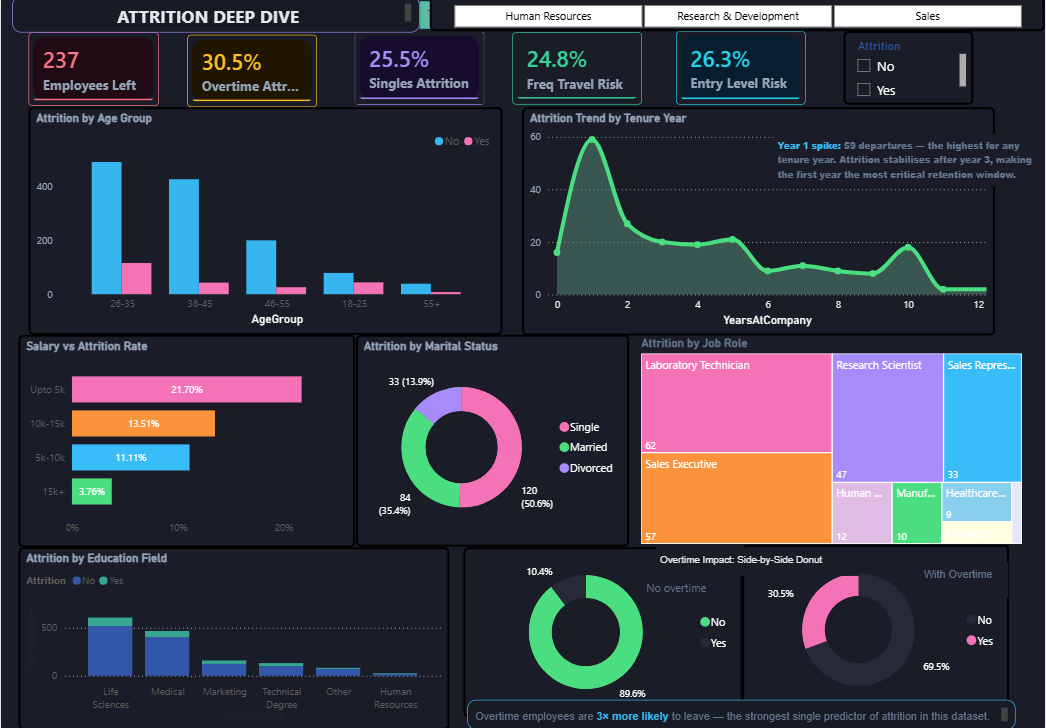

What the dashboard file says about the page in this screenshot:
{"tool":"powerbi","page":{"name":"Attrition Deep Dive","canvas":[1280,900],"ordinal":1},"visuals":[{"type":"cardVisual","fields":{"Data":["HR_Analytics.Attrition Count"]},"box":[33.4,44.5,160,90.5],"z":0},{"type":"cardVisual","fields":{"Data":["HR_Analytics.overtime attrition"]},"box":[228.5,47.5,159.5,89],"z":1000},{"type":"cardVisual","fields":{"Data":["HR_Analytics.Freq Travel Risk"]},"box":[627.3,44.5,159.5,89],"z":2000},{"type":"cardVisual","fields":{"Data":["HR_Analytics.Singles Attrition"]},"box":[434.1,42.9,159.5,90.5],"z":3000},{"type":"cardVisual","fields":{"Data":["HR_Analytics.Entry Level Risk"]},"box":[828.2,42.9,159.5,90.5],"z":4000},{"type":"textbox","box":[13.8,0,500,44.5],"z":5000},{"type":"clusteredColumnChart","title":"Attrition by Age Group","fields":{"Series":["HR_Analytics.Attrition"],"Category":["HR_Analytics.AgeGroup"],"Y":["HR_Analytics.Total Employees"]},"box":[33.7,136.5,581.3,279.1],"z":6000},{"type":"areaChart","title":"Attrition Trend by Tenure Year","fields":{"Category":["HR_Analytics.YearsAtCompany"],"Y":["HR_Analytics.Attrition Count"]},"box":[640,137,580,280],"z":7000},{"type":"donutChart","title":"Attrition by Marital Status","fields":{"Y":["HR_Analytics.Attrition Count"],"Category":["HR_Analytics.MaritalStatus"]},"box":[435,416,335,260],"z":8000},{"type":"treemap","title":"Attrition by Job Role","fields":{"Group":["HR_Analytics.JobRole"],"Values":["HR_Analytics.Attrition Count"]},"box":[780,417,477,260],"z":9000},{"type":"columnChart","title":"Attrition by Education Field","fields":{"Category":["HR_Analytics.EducationField"],"Series":["HR_Analytics.Attrition"],"Y":["HR_Analytics.Total Employees"]},"box":[21.5,676.4,529.1,223.9],"z":10000},{"type":"donutChart","title":"No Overtime","fields":{"Category":["HR_Analytics.Attrition"],"Y":["HR_Analytics.Total Employees"]},"box":[567,677,342,209],"z":11000},{"type":"donutChart","title":"With Overtime","fields":{"Category":["HR_Analytics.Attrition"],"Y":["HR_Analytics.Total Employees"]},"box":[909,673,327,209],"z":12000},{"type":"barChart","title":"Salary vs Attrition Rate","fields":{"Y":["HR_Analytics.Attrition Rate"],"Category":["HR_Analytics.SalarySlab"]},"box":[21.5,415.6,412.6,260.7],"z":13000},{"type":"textbox","box":[572,863,673,37],"z":14000},{"type":"textbox","box":[787,712,90,35],"z":15000},{"type":"textbox","box":[1114,695,122,43],"z":16000},{"type":"textbox","box":[947.3,168.5,332.7,64.8],"z":17000},{"type":"textbox","box":[804,677,250,35],"z":18000},{"type":"slicer","fields":{"Values":["HR_Analytics.Attrition"]},"box":[1033.7,42.9,159.5,90.5],"z":18001},{"type":"slicer","fields":{"Values":["HR_Analytics.Department"]},"box":[526.1,0,754.6,42.9],"z":18002}]}

Visuals, with their boxes in screenshot pixels (x1, y1, x2, y2), scaled from the page's 1280x900 canvas onto the 1046x728 screenshot:
cardVisual - HR_Analytics.Attrition Count: bbox(27, 36, 158, 109)
cardVisual - HR_Analytics.overtime attrition: bbox(187, 38, 317, 110)
cardVisual - HR_Analytics.Freq Travel Risk: bbox(513, 36, 643, 108)
cardVisual - HR_Analytics.Singles Attrition: bbox(355, 35, 485, 108)
cardVisual - HR_Analytics.Entry Level Risk: bbox(677, 35, 807, 108)
textbox: bbox(11, 0, 420, 36)
"Attrition by Age Group" clusteredColumnChart: bbox(28, 110, 503, 336)
"Attrition Trend by Tenure Year" areaChart: bbox(523, 111, 997, 337)
"Attrition by Marital Status" donutChart: bbox(355, 336, 629, 547)
"Attrition by Job Role" treemap: bbox(637, 337, 1027, 548)
"Attrition by Education Field" columnChart: bbox(18, 547, 450, 727)
"No Overtime" donutChart: bbox(463, 548, 743, 717)
"With Overtime" donutChart: bbox(743, 544, 1010, 713)
"Salary vs Attrition Rate" barChart: bbox(18, 336, 355, 547)
textbox: bbox(467, 698, 1017, 727)
textbox: bbox(643, 576, 717, 604)
textbox: bbox(910, 562, 1010, 597)
textbox: bbox(774, 136, 1045, 189)
textbox: bbox(657, 548, 861, 576)
slicer - HR_Analytics.Attrition: bbox(845, 35, 975, 108)
slicer - HR_Analytics.Department: bbox(430, 0, 1045, 35)
